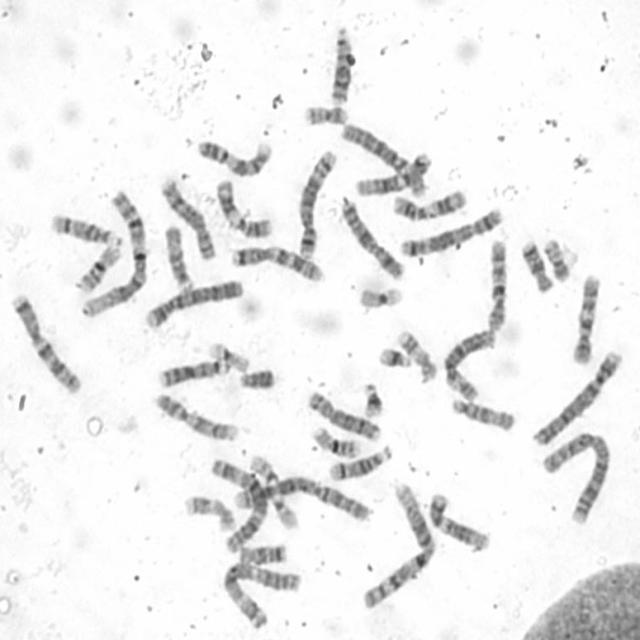A1: (356, 476, 438, 612), (76, 184, 149, 322)
A2: (538, 425, 614, 527), (227, 470, 374, 522)
A3: (206, 453, 270, 555), (219, 557, 304, 633)
B4: (530, 346, 624, 447), (142, 276, 245, 330)
B5: (396, 204, 506, 258), (292, 143, 340, 260)
C10: (568, 268, 604, 367), (483, 235, 510, 333)
C11: (213, 174, 276, 240), (388, 185, 469, 222)
C12: (424, 488, 493, 554), (352, 147, 434, 198)
C6: (340, 118, 430, 198), (439, 324, 497, 403)
C7: (8, 290, 85, 395), (225, 240, 326, 284)
C8: (156, 173, 217, 263), (304, 384, 385, 442)
C9: (150, 388, 240, 442), (193, 132, 276, 178)
D13: (154, 355, 232, 389), (326, 21, 354, 106)
D14: (47, 208, 123, 248), (325, 439, 395, 482)
D15: (446, 393, 518, 433), (160, 221, 196, 292)
E16: (75, 240, 123, 294), (308, 420, 363, 459)
E17: (394, 324, 439, 383), (180, 490, 237, 535)
E18: (517, 236, 555, 294), (236, 540, 288, 566)
F19: (205, 336, 252, 374), (354, 280, 404, 310)
F20: (541, 234, 573, 283), (299, 100, 350, 126)
G21: (359, 376, 387, 419), (375, 342, 414, 370)
G22: (265, 486, 302, 530), (246, 451, 285, 490)
X: (337, 194, 406, 280)
Y: (234, 364, 276, 390)
